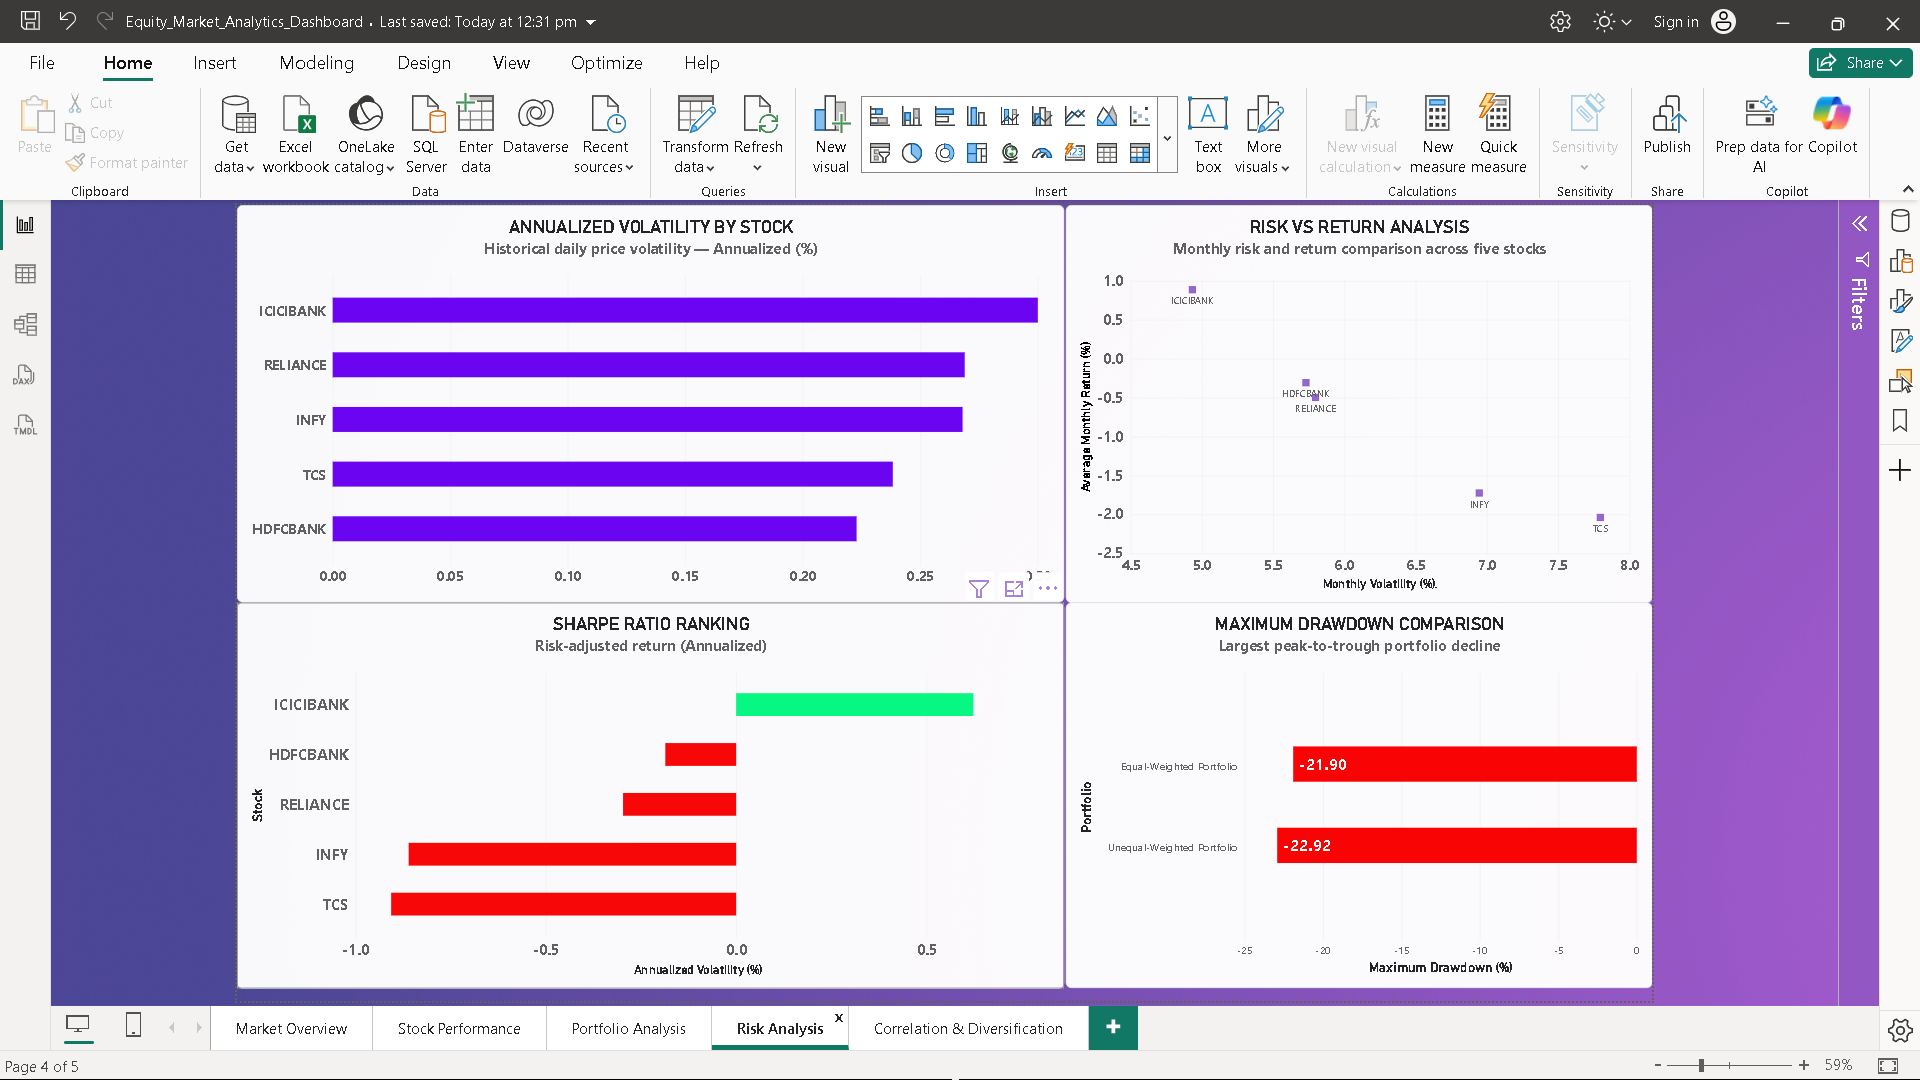

This screenshot's page, from the dashboard's own definition file:
{"tool":"powerbi","page":{"name":"Risk Analysis","canvas":[1920,1080],"ordinal":3},"visuals":[{"type":"clusteredBarChart","title":"ANNUALIZED VOLATILITY BY STOCK","fields":{"Category":["Stock Risk Analysis.Stock"],"Y":["Sum(Stock Risk Analysis.Annualized volatility)"]},"box":[0,0,1122.7,539.3],"z":0},{"type":"clusteredBarChart","title":"SHARPE RATIO RANKING","fields":{"Category":["Stock Sharpe Analysis.Stock"],"Y":["Sum(Stock Sharpe Analysis.Annualized Sharpe Ratio)"]},"box":[0,539.3,1122.7,524.1],"z":1},{"type":"scatterChart","title":"RISK VS RETURN ANALYSIS","fields":{"Category":["risk_return_summary.Symbol"],"X":["Sum(risk_return_summary.Monthly_Volatility)"],"Y":["Sum(risk_return_summary.Average_Monthly_Return)"]},"box":[1124,0,796,540],"z":2},{"type":"clusteredBarChart","title":"MAXIMUM DRAWDOWN COMPARISON","fields":{"Category":["Portfolio Drawdown.Portfolio"],"Y":["Sum(Portfolio Drawdown.Maximum Drawdown %)"]},"box":[1124,540,796,523],"z":3}]}

Visuals, with their boxes on the page's 1920x1080 design canvas (x1, y1, x2, y2). These are canvas units, not pixel positions in the 1920x1080 screenshot, which may show the page scaled, cropped or inside an application window:
"ANNUALIZED VOLATILITY BY STOCK" clusteredBarChart: bbox=[0, 0, 1123, 539]
"SHARPE RATIO RANKING" clusteredBarChart: bbox=[0, 539, 1123, 1063]
"RISK VS RETURN ANALYSIS" scatterChart: bbox=[1124, 0, 1920, 540]
"MAXIMUM DRAWDOWN COMPARISON" clusteredBarChart: bbox=[1124, 540, 1920, 1063]
